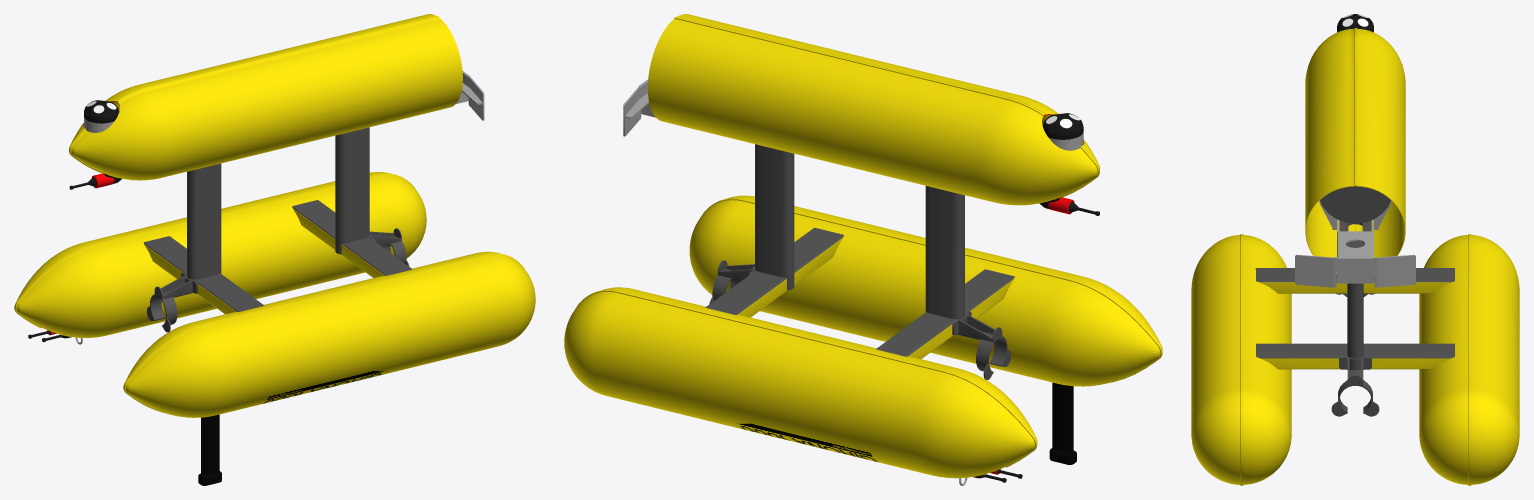
The model's file is girona1000_intervention.dae.
3 views of the same model, side by side, from view 1: azimuth 30°, elevation 25°; view 2: azimuth 150°, elevation 25°; view 3: azimuth 270°, elevation 25° (orthographic). The views are drawn at different scales.
Visible parts, largest first — view 1: hull_port, hull_bottom_cut_clean, hull_starboard, tbar.001, tbar, antenna, dvl, dual_bravo_support; view 2: hull_starboard, hull_bottom_cut_clean, hull_port, tbar.001, tbar, antenna, dvl, dual_bravo_support; view 3: hull_port, hull_starboard, hull_bottom_cut_clean, tbar, dual_bravo_support, tbar.001, dvl.
Boxes of the visible parts, <box> form: hull_port: <box>123,251,535,417</box>; hull_bottom_cut_clean: <box>69,14,462,189</box>; hull_starboard: <box>14,172,426,344</box>; tbar.001: <box>143,163,264,332</box>; tbar: <box>292,127,412,277</box>; antenna: <box>198,414,221,485</box>; dvl: <box>84,100,119,132</box>; dual_bravo_support: <box>456,71,484,120</box>; hull_starboard: <box>564,287,1037,485</box>; hull_bottom_cut_clean: <box>648,14,1099,215</box>; hull_port: <box>689,195,1162,386</box>; tbar.001: <box>876,186,1014,379</box>; tbar: <box>705,144,843,317</box>; antenna: <box>1049,382,1076,464</box>; dvl: <box>1042,113,1083,150</box>; dual_bravo_support: <box>623,79,655,136</box>; hull_port: <box>1191,234,1291,485</box>; hull_starboard: <box>1419,234,1519,485</box>; hull_bottom_cut_clean: <box>1305,28,1405,273</box>; tbar: <box>1256,223,1454,416</box>; dual_bravo_support: <box>1295,219,1415,287</box>; tbar.001: <box>1255,268,1454,296</box>; dvl: <box>1337,14,1373,32</box>.
Bounding box in the file's own units: 1.5 × 1.01 × 1.26.
